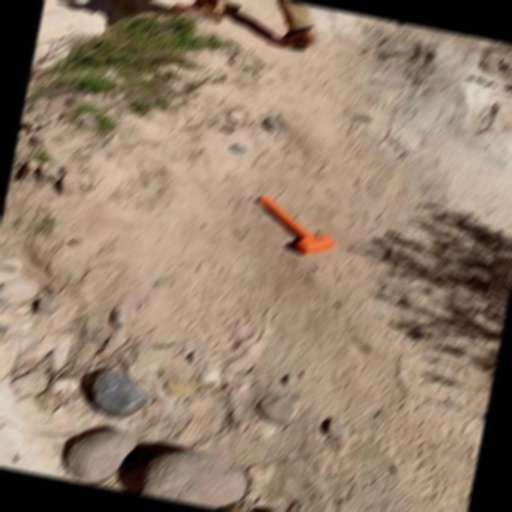mallet: (252, 194, 342, 260)
